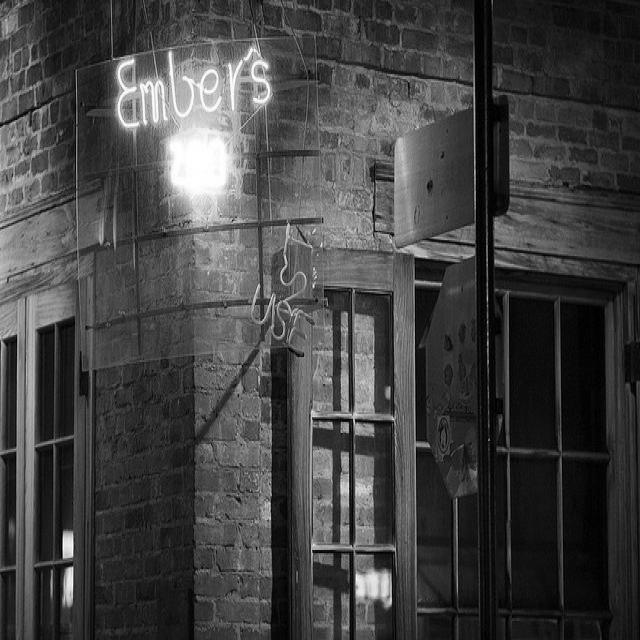pole: (465, 3, 508, 631)
